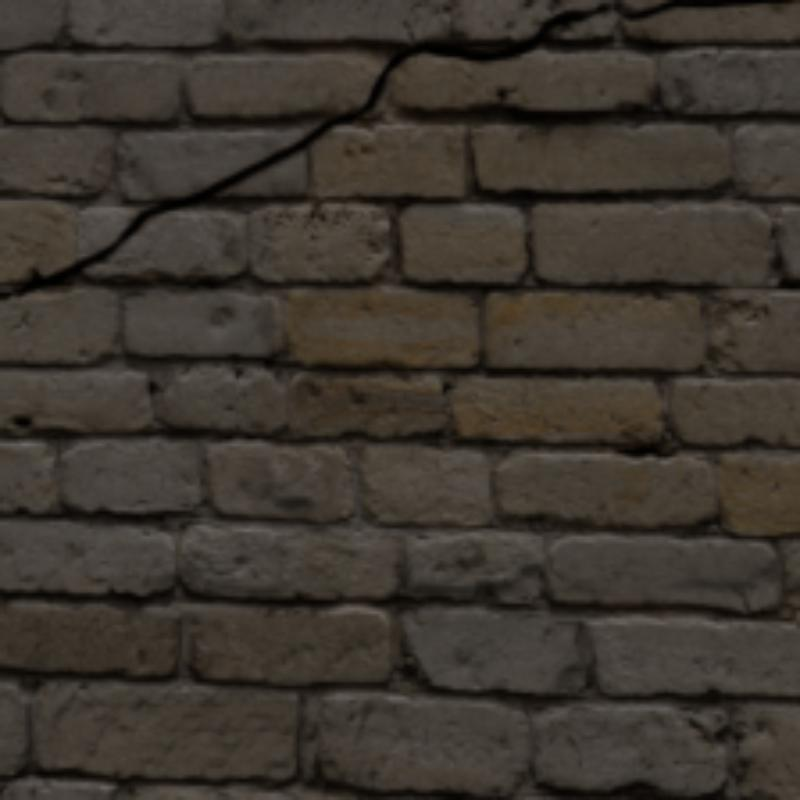pothole: (1, 1, 798, 298)
